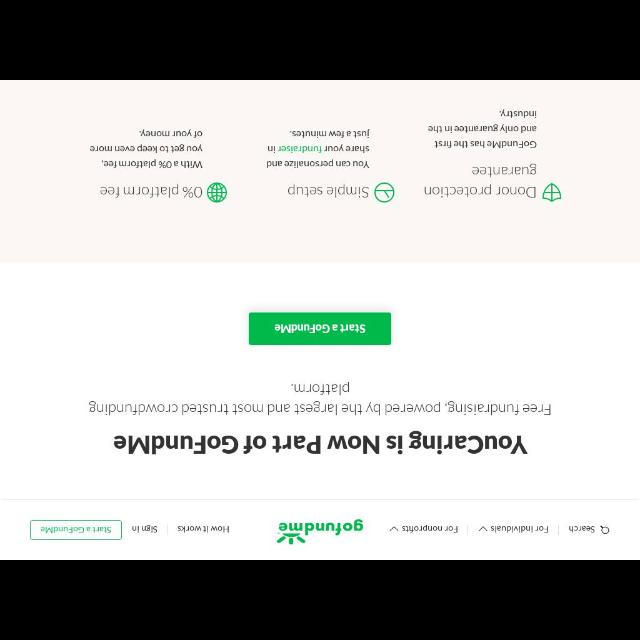icon: (374, 182, 396, 202), (206, 182, 228, 202), (542, 184, 560, 202), (600, 524, 610, 534), (389, 526, 399, 532), (479, 526, 488, 532)
image: (278, 518, 362, 546)
spinner: (384, 521, 466, 535), (467, 524, 558, 534)
text: (89, 382, 552, 416), (111, 434, 527, 454), (89, 130, 203, 170), (422, 162, 538, 200), (427, 110, 537, 150), (264, 130, 370, 170), (98, 186, 202, 198), (286, 184, 370, 198), (276, 322, 366, 334), (38, 524, 112, 534), (174, 524, 230, 534), (491, 526, 549, 534), (402, 526, 458, 532), (568, 524, 594, 534), (132, 526, 158, 532)
textbutton: (249, 314, 391, 344), (31, 521, 121, 539)
toolbar: (1, 499, 639, 558)
